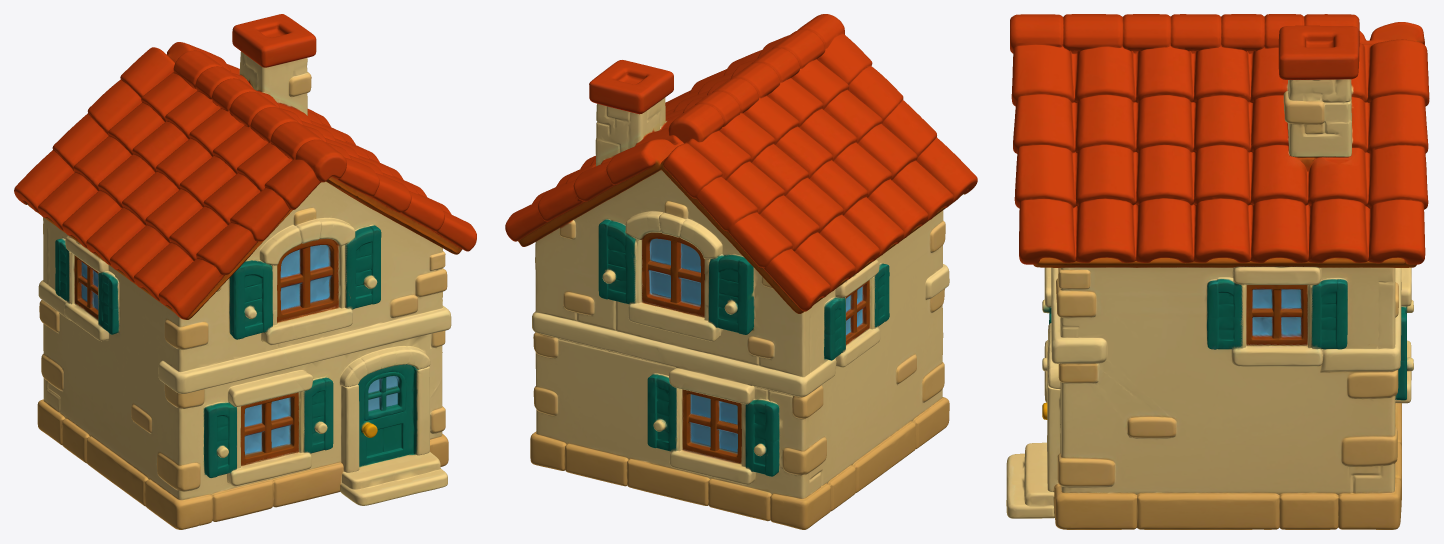
The model's file is StylizedHouse.glb.
3 views of the same model, side by side, from view 1: azimuth 30°, elevation 25°; view 2: azimuth 150°, elevation 25°; view 3: azimuth 270°, elevation 25° (orthographic). The views are drawn at different scales.
Parts seen in each view (by area): view 1: tripo_node_159f8e2b-a28a-4b43-b350-2ec1055933de; view 2: tripo_node_159f8e2b-a28a-4b43-b350-2ec1055933de; view 3: tripo_node_159f8e2b-a28a-4b43-b350-2ec1055933de.
Boxes of the visible parts, box(x1,y1,x2,y2) form: tripo_node_159f8e2b-a28a-4b43-b350-2ec1055933de: box(14, 14, 476, 529); tripo_node_159f8e2b-a28a-4b43-b350-2ec1055933de: box(505, 14, 977, 529); tripo_node_159f8e2b-a28a-4b43-b350-2ec1055933de: box(1006, 14, 1429, 529).
Size of the model in its own units: 0.8351 by 0.9791 by 0.8296.
1 material, 1 textured.
